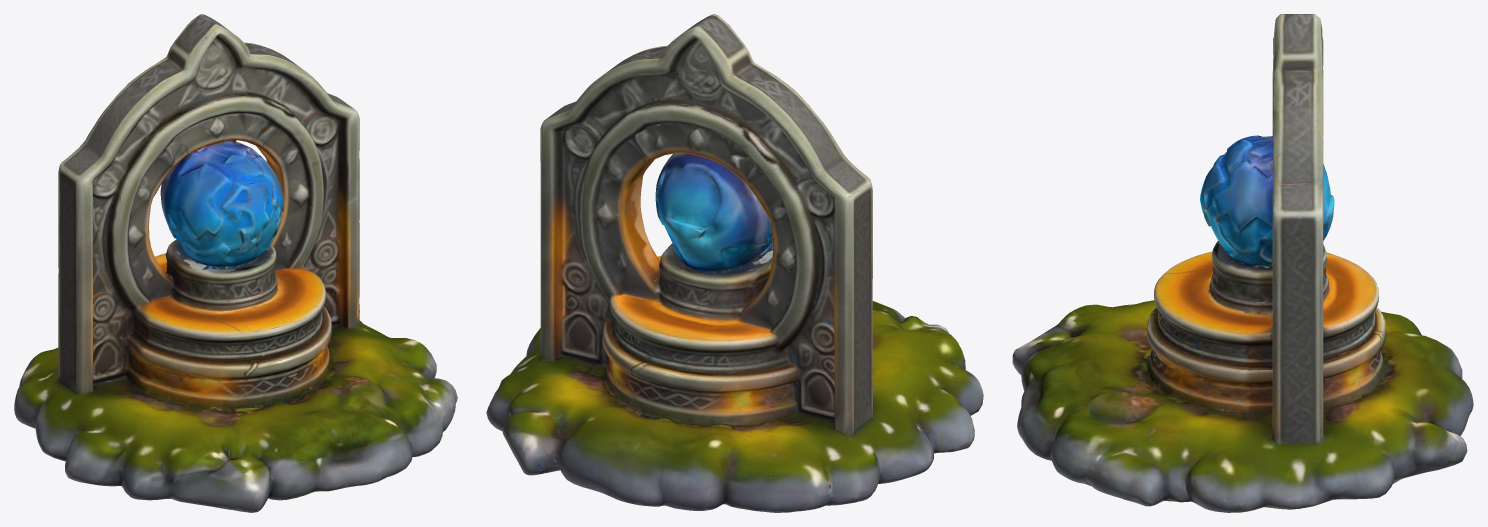
File: podium_v1.glb
3 views of the same model, side by side, from view 1: azimuth 30°, elevation 25°; view 2: azimuth 150°, elevation 25°; view 3: azimuth 270°, elevation 25° (orthographic). The views are drawn at different scales.
Size of the model in its own units: 2 by 1.9 by 1.96.
Materials: 1 (1 with a texture image).
